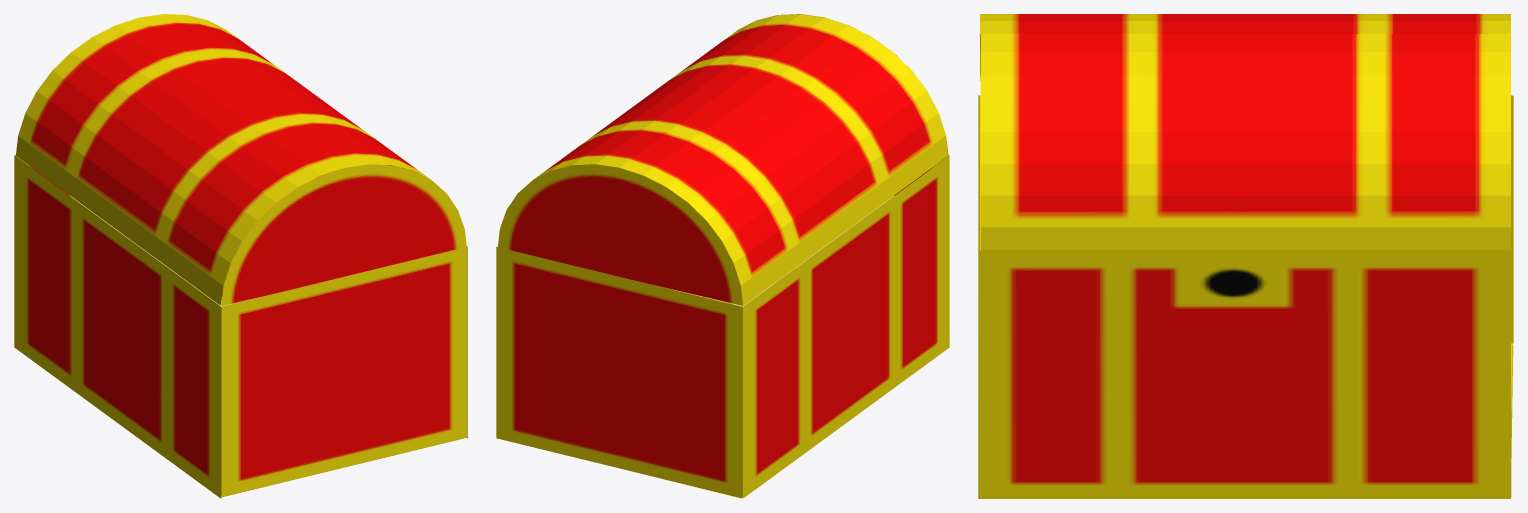
Rendered from TreasureBox.fbx.
The picture shows the model from 3 angles, left to right: view 1: azimuth 30°, elevation 25°; view 2: azimuth 150°, elevation 25°; view 3: azimuth 270°, elevation 25°; orthographic projection. The views are drawn at different scales.
Parts seen in each view (by area): view 1: TreasureBox, 円柱; view 2: TreasureBox, 円柱; view 3: TreasureBox, 円柱.
Part boxes in pixels (<box>): TreasureBox: <box>14,154,467,498</box>; 円柱: <box>16,14,466,305</box>; TreasureBox: <box>496,155,949,498</box>; 円柱: <box>498,14,948,305</box>; TreasureBox: <box>978,95,1513,498</box>; 円柱: <box>980,14,1510,251</box>.
Bounding box in the file's own units: 231 × 269 × 336.
